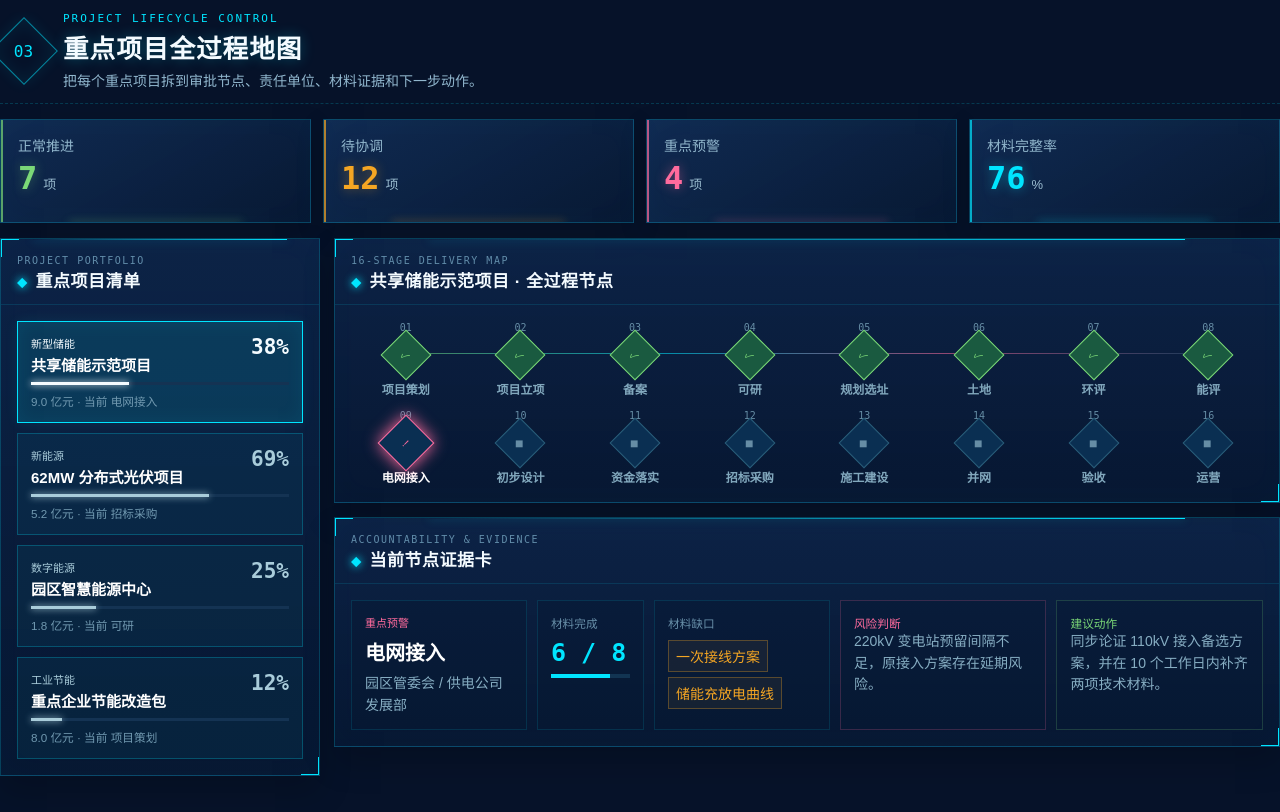
Test: ProjectsPage › connects the operation lifecycle node to the operations workspace
Click the button "16 ◆ 运营": [1208, 448] box x1=1153 y1=409 x2=1263 y2=486
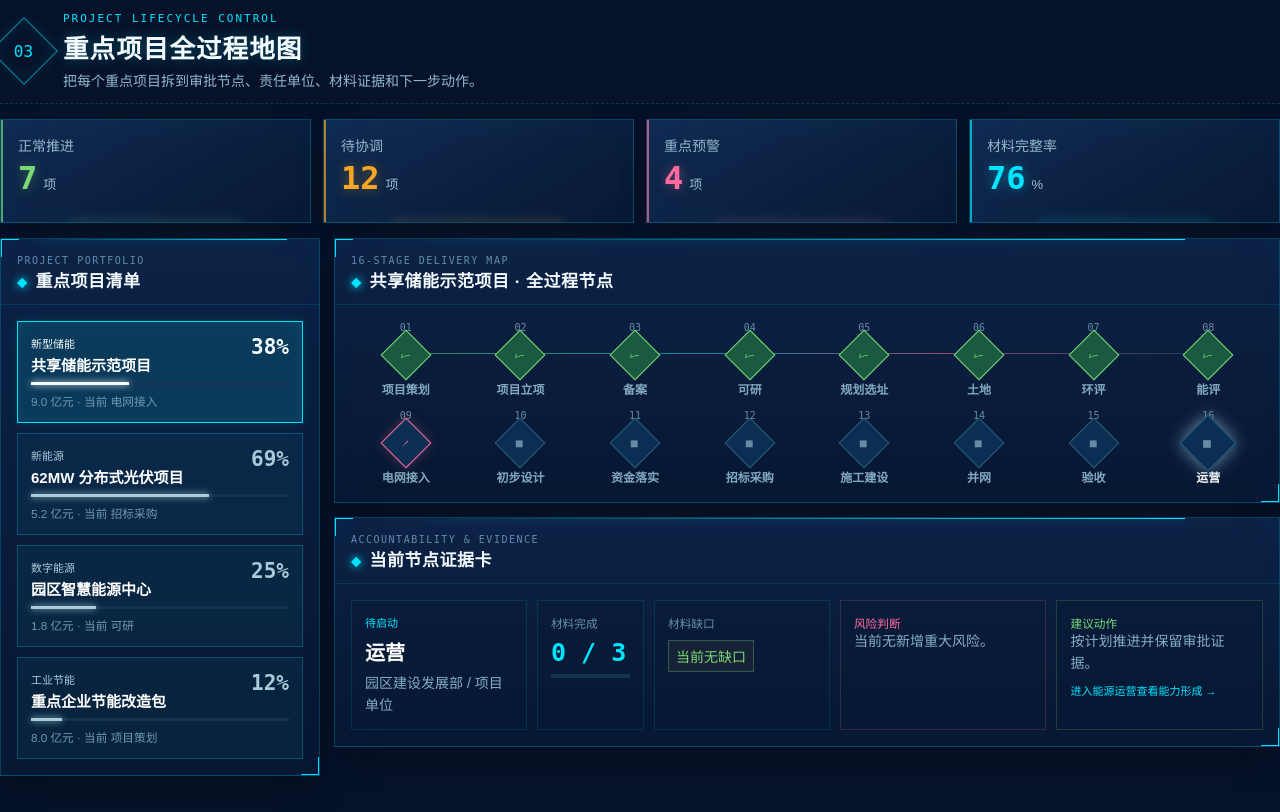
Now the link with test id "project-operation-link" shows "能源运营", box x1=1070 y1=685 x2=1217 y2=697
